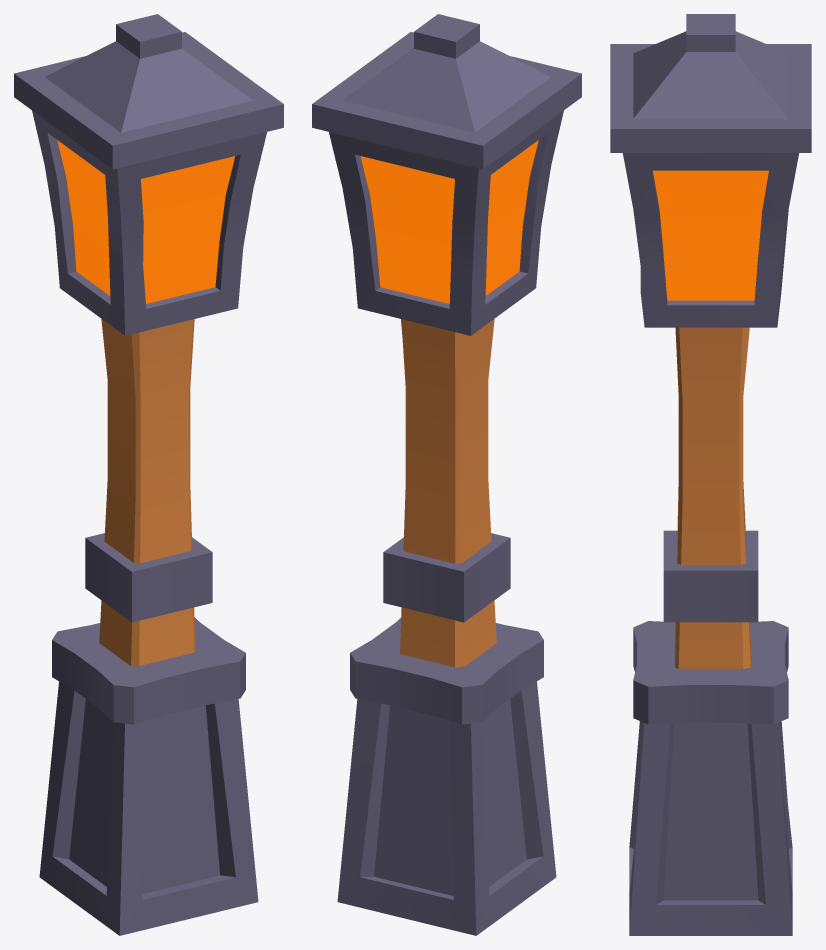
File: pole-light.glb
The picture shows the model from 3 angles, left to right: view 1: azimuth 30°, elevation 25°; view 2: azimuth 150°, elevation 25°; view 3: azimuth 270°, elevation 25°; orthographic projection.
Parts seen in each view (by area): view 1: body.004, glass.003; view 2: body.004, glass.003; view 3: body.004, glass.003.
Part boxes in pixels (left/top/right/bottom): body.004: left=14, top=14, right=283, bottom=935; glass.003: left=57, top=140, right=235, bottom=303; body.004: left=312, top=14, right=581, bottom=935; glass.003: left=360, top=140, right=538, bottom=303; body.004: left=610, top=14, right=811, bottom=935; glass.003: left=653, top=170, right=768, bottom=300.
Size of the model in its own units: 0.7407 by 3.56 by 0.7407.
Materials: 2 (1 with a texture image).
